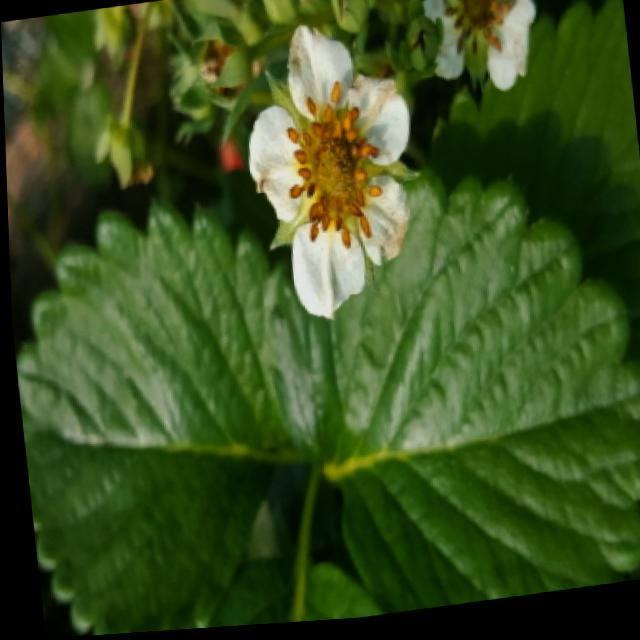Blossom Blight: (280, 83, 385, 256)
